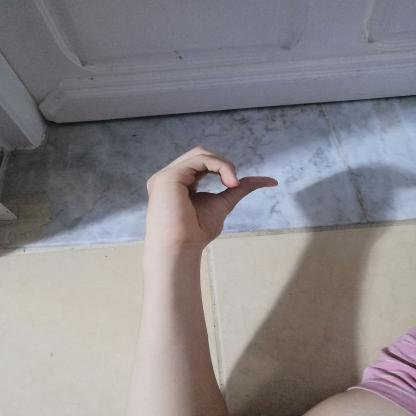WAW: (128, 136, 294, 264)
